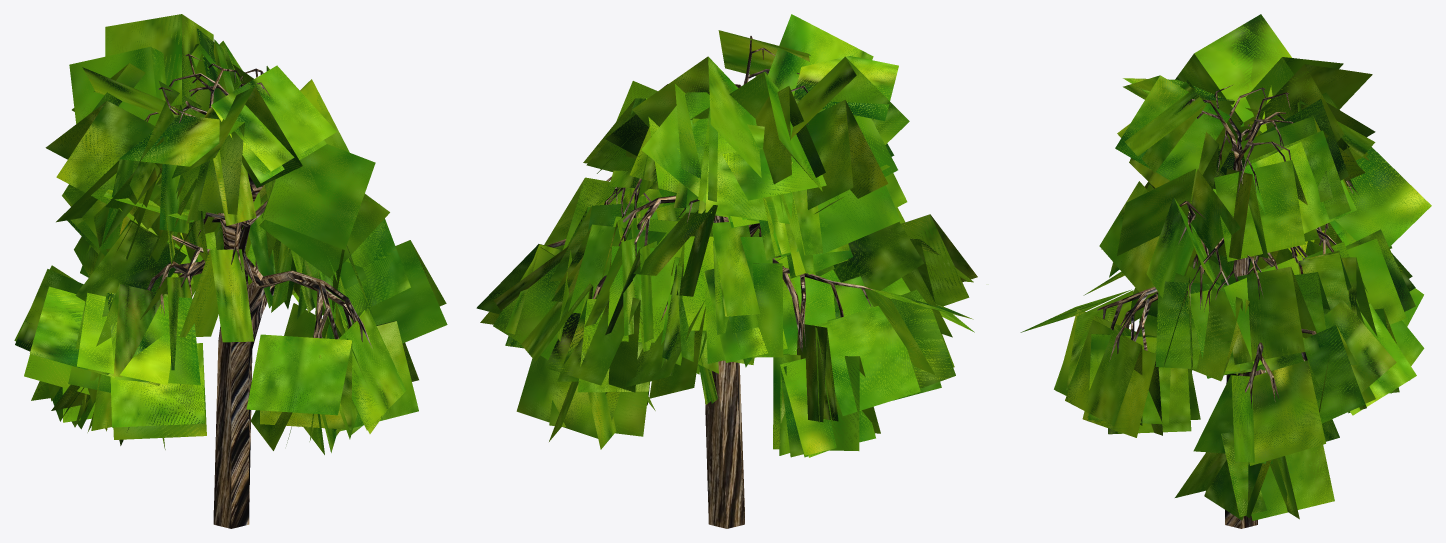
File: tree.obj
3 renders of one model, left to right at view 1: azimuth 30°, elevation 25°; view 2: azimuth 150°, elevation 25°; view 3: azimuth 270°, elevation 25°, orthographic. The views are drawn at different scales.
Visible parts, largest first — view 1: twig, tree; view 2: twig, tree; view 3: twig, tree.
Part boxes in pixels (x1,y1,x2,y2): twig: (14, 14, 447, 454); tree: (145, 54, 372, 528); twig: (476, 14, 977, 457); tree: (547, 36, 875, 528); twig: (1020, 14, 1431, 520); tree: (1097, 84, 1358, 528).
Size of the model in its own units: 5.6 by 5.98 by 4.97.
